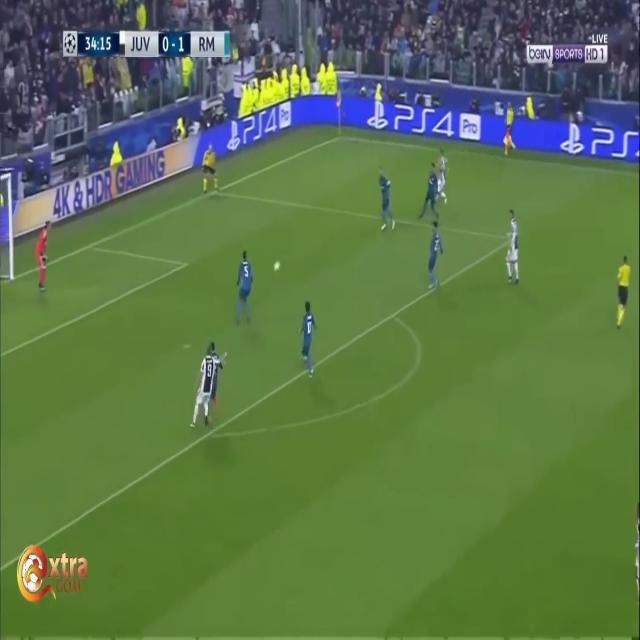ball: (274, 251, 281, 277)
goalkeeper: (33, 223, 57, 296)
player: (196, 340, 226, 437), (234, 244, 256, 329), (298, 299, 319, 385), (502, 209, 522, 290), (375, 166, 398, 236), (427, 221, 445, 293), (422, 167, 441, 225), (438, 149, 452, 197), (503, 113, 517, 161)
referee: (614, 254, 637, 337), (200, 141, 224, 200)
